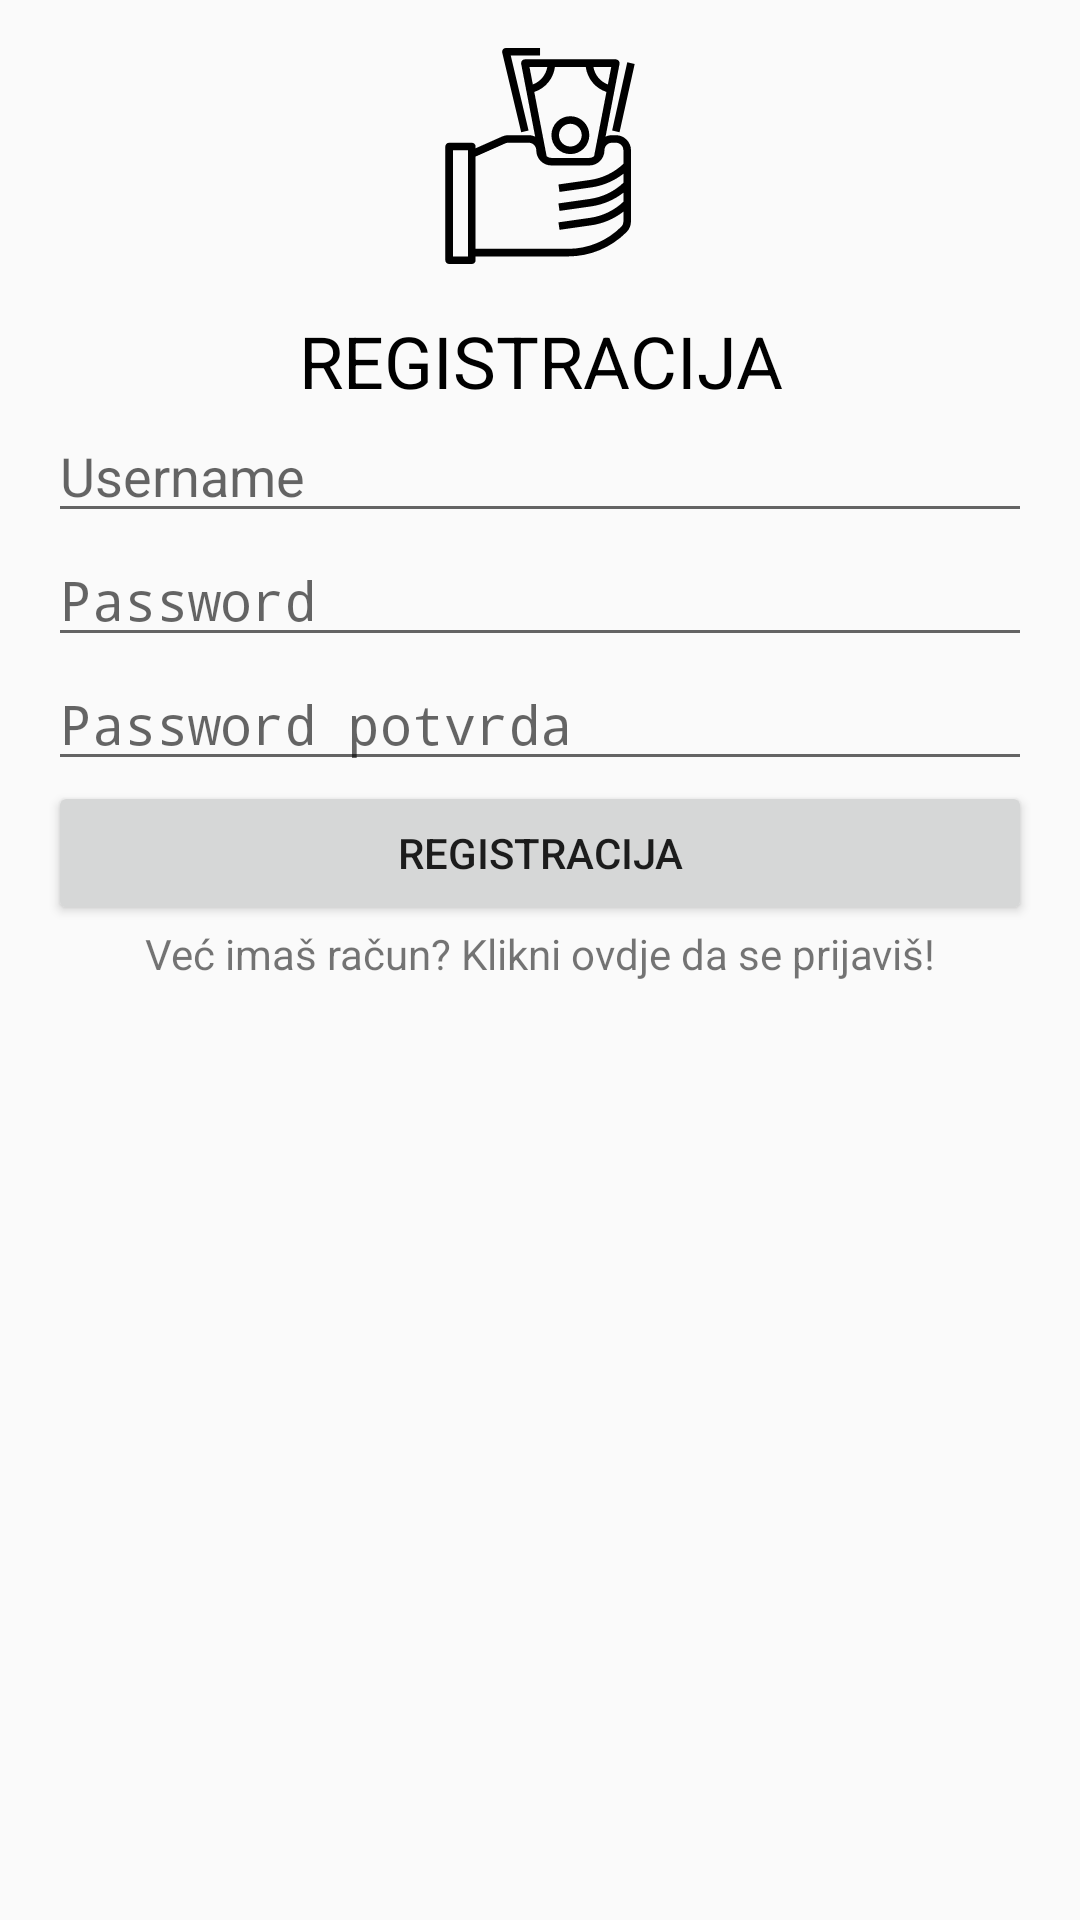

Where icons sit on this 1080px×1920px app screen, as [x1,y1,x2,y2]:
investment: [445,48,635,264]
